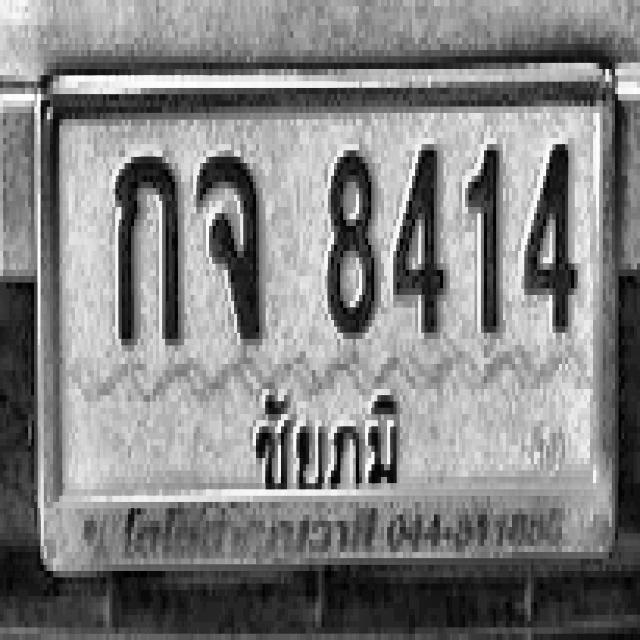license-plate: (36, 72, 614, 567)
